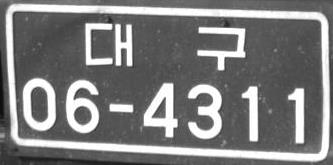0: (21, 76, 56, 130)
1: (281, 86, 315, 144), (234, 84, 266, 142)
3: (187, 83, 223, 141)
4: (143, 81, 178, 138)
6: (65, 78, 100, 134)
대구_D: (84, 21, 246, 71)
